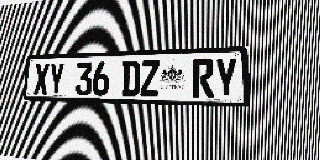3: (75, 62, 93, 96)
6: (92, 61, 110, 96)
D: (121, 61, 140, 96)
R: (192, 58, 214, 98)
X: (33, 63, 49, 95)
Y: (215, 58, 238, 98), (48, 63, 65, 95)
Z: (140, 60, 160, 97)
